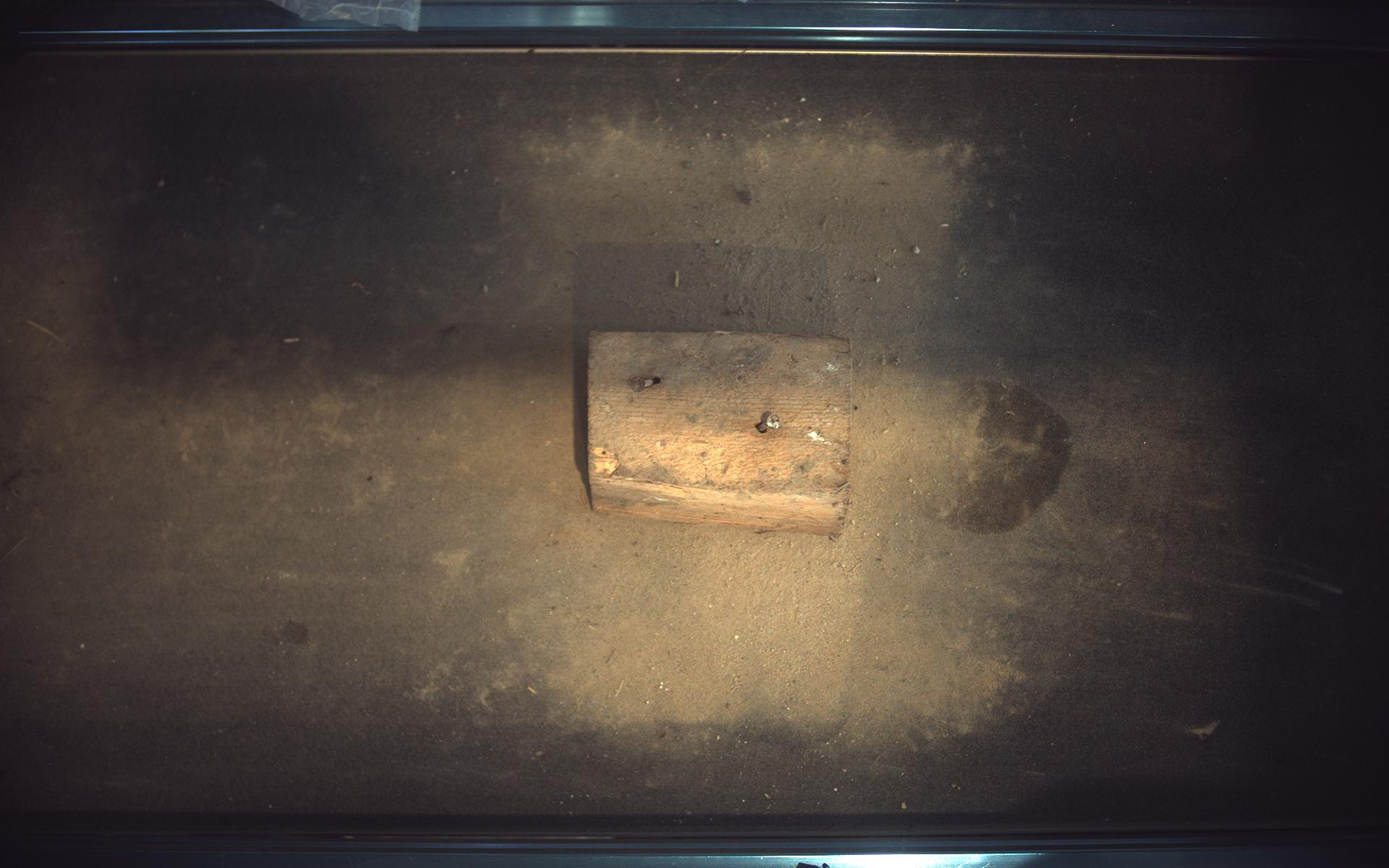wood: (587, 331, 853, 535)
